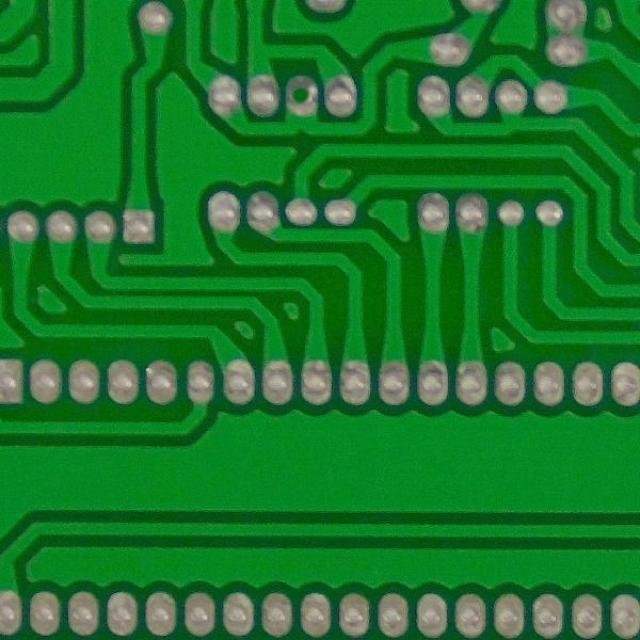Missing_Hole: (280, 74, 322, 119)
